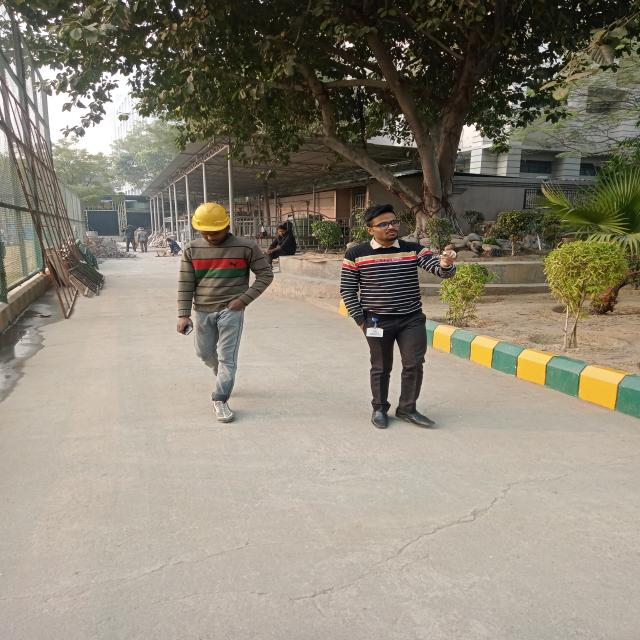no jacket: (168, 198, 265, 426)
unsafe: (339, 203, 441, 432)
